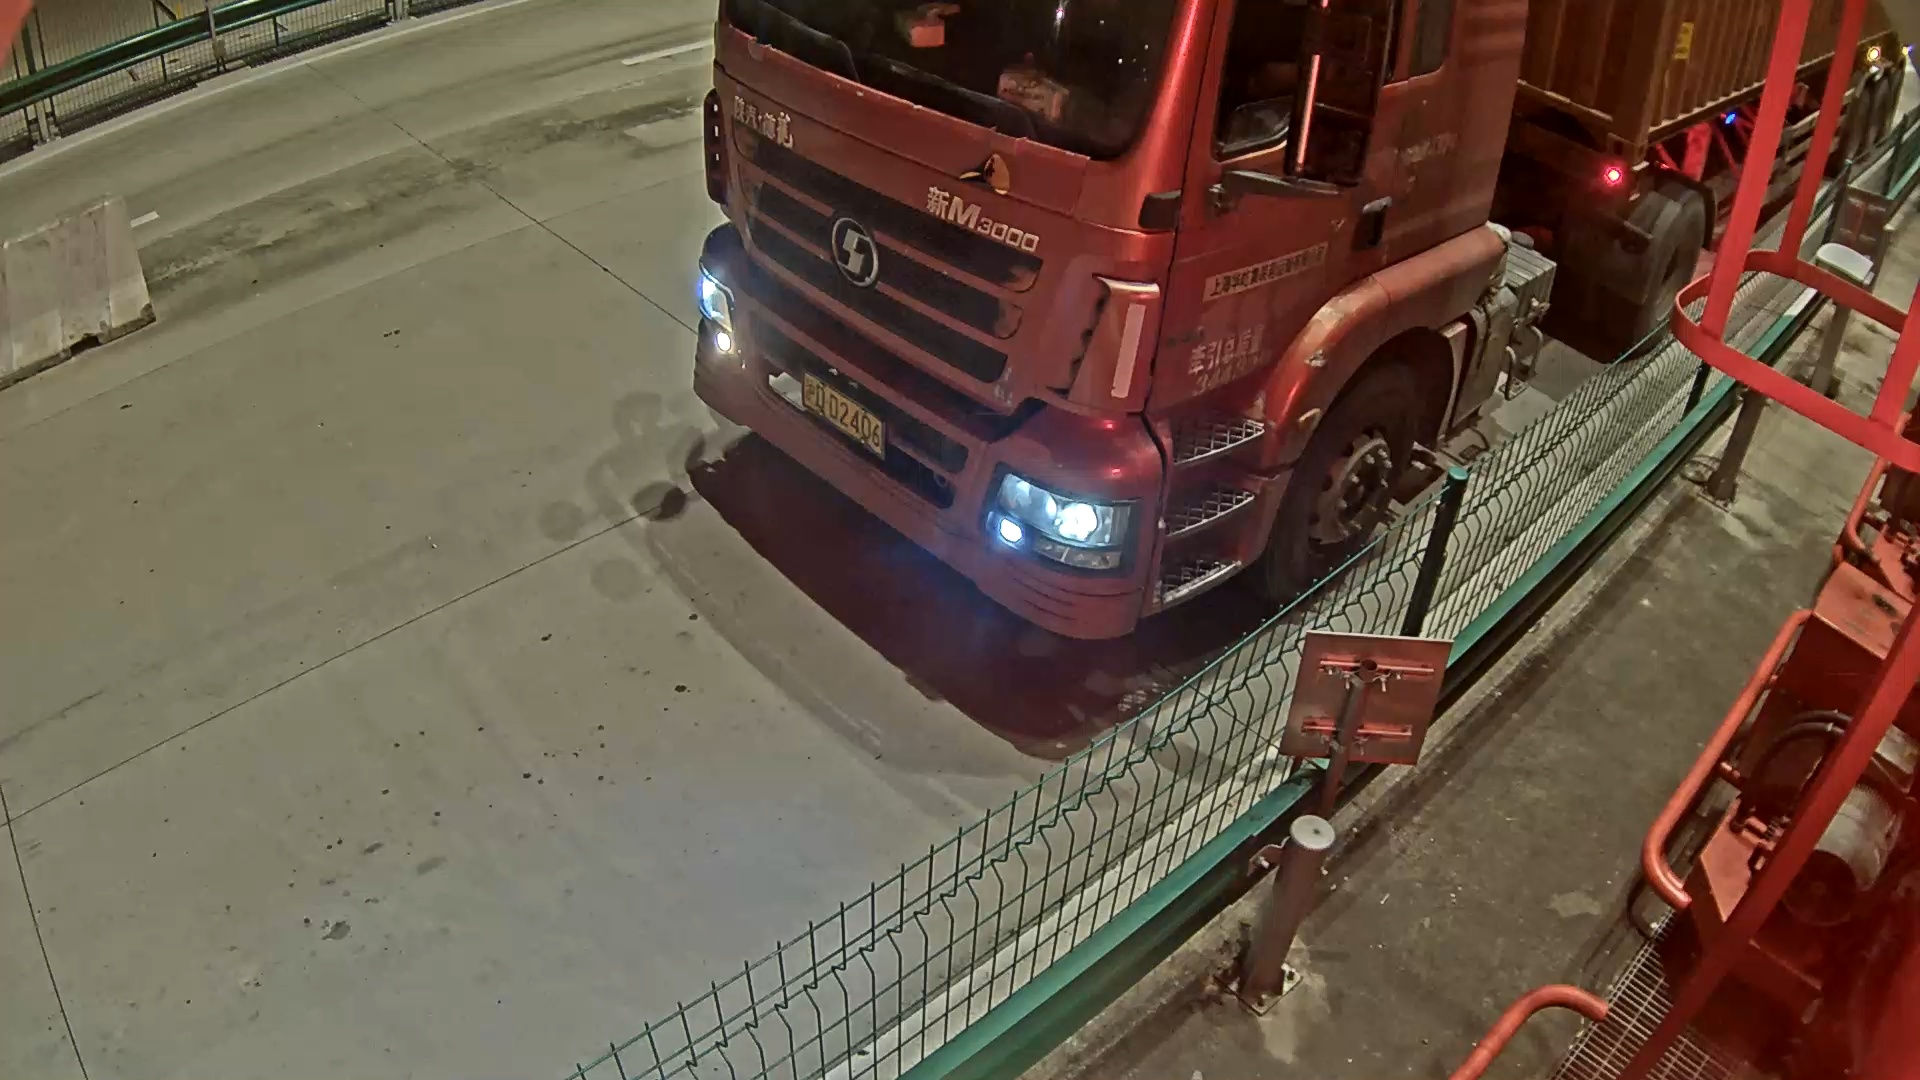head: (706, 17, 1263, 652)
plate: (797, 373, 891, 459)
